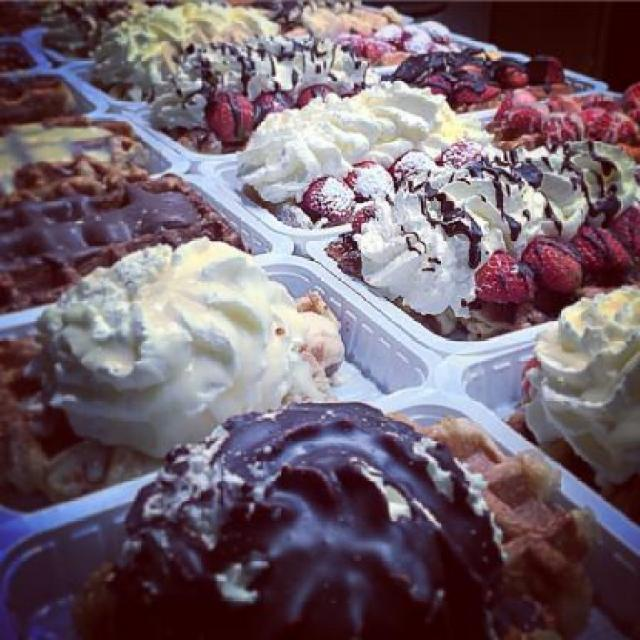Ice cream: (0, 0, 638, 638), (13, 237, 339, 485)
